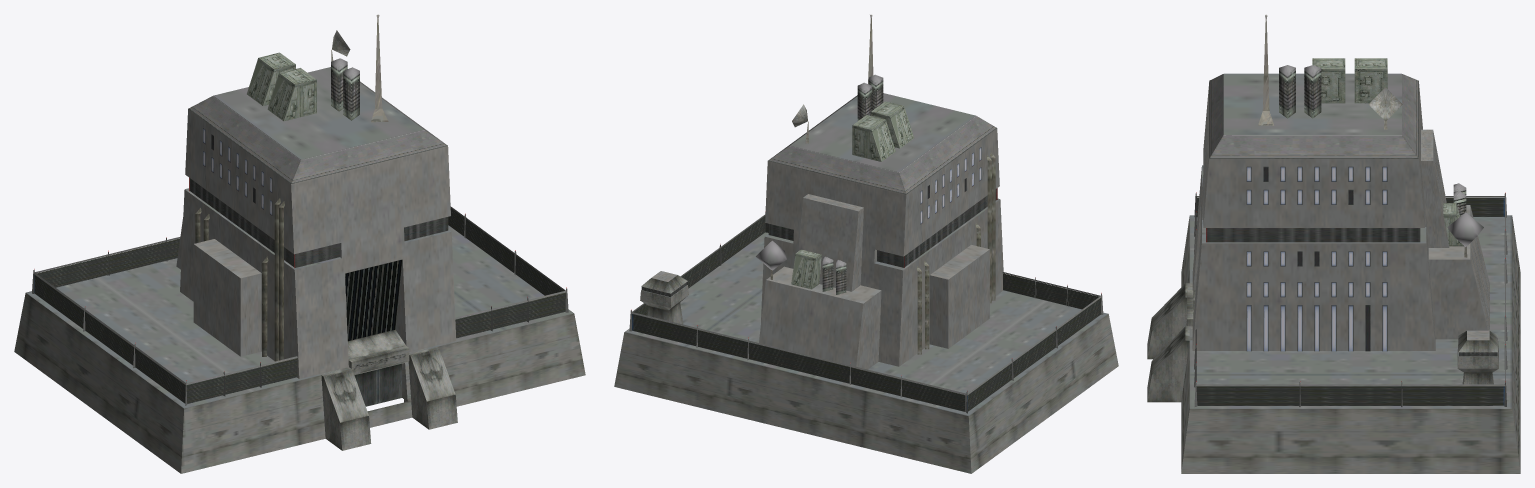
The model's file is thm_dath_imp_prison_l4.fbx.
The picture shows the model from 3 angles, left to right: view 1: azimuth 30°, elevation 25°; view 2: azimuth 150°, elevation 25°; view 3: azimuth 270°, elevation 25°; orthographic projection. The views are drawn at different scales.
Parts seen in each view (by area): view 1: mesh_node; view 2: mesh_node; view 3: mesh_node.
Part boxes in pixels (x1,y1,x2,y2): mesh_node: [14, 14, 585, 473]; mesh_node: [614, 14, 1118, 473]; mesh_node: [1147, 14, 1520, 473].
Bounding box in the file's own units: 56 × 48.99 × 44.
